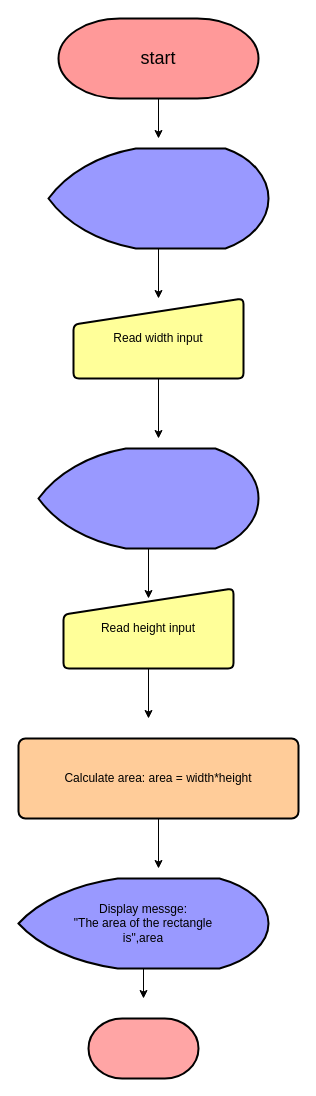
The diagram is 316 pixels wide and 1096 high, and some of its shapes have lost their labels. Each missing label, with the box of its shape:
display mesage: "enter the height of the rectangle": (37, 447, 259, 549)
display mesage: "enter the width of the rectangle": (47, 147, 269, 249)
End: (87, 1017, 199, 1079)
